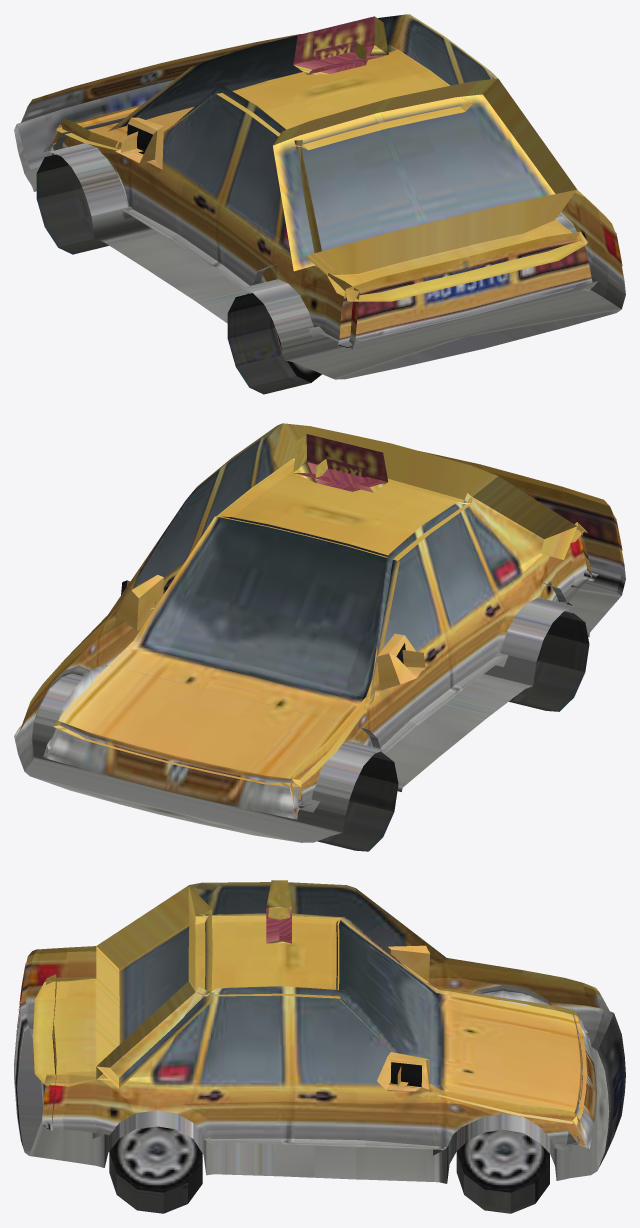
The picture shows the model from 3 angles, top to bottom: view 1: azimuth 30°, elevation 25°; view 2: azimuth 150°, elevation 25°; view 3: azimuth 270°, elevation 25°; orthographic projection. The views are drawn at different scales.
Visible parts, largest first — view 1: chuzu02, tyre1, tyre3; view 2: chuzu02, tyre1, tyre3; view 3: chuzu02, tyre2, tyre4.
Part boxes in pixels (x1,y1,x2,y2): chuzu02: (14, 14, 625, 379); tyre1: (227, 293, 321, 394); tyre3: (36, 154, 108, 254); chuzu02: (14, 423, 625, 842); tyre1: (509, 611, 589, 711); tyre3: (317, 752, 398, 851); chuzu02: (14, 880, 625, 1183); tyre2: (109, 1126, 202, 1213); tyre4: (456, 1129, 549, 1213).
Size of the model in its own units: 0.2366 by 0.1964 by 0.4367.
1 material, 1 textured.
